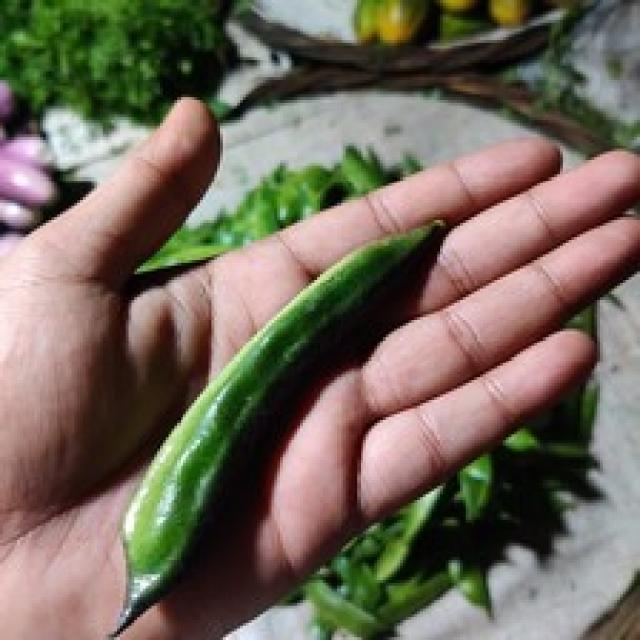Bean: (106, 217, 446, 637)
